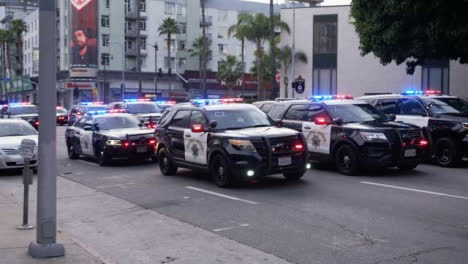Car: (155, 97, 312, 186), (273, 94, 431, 174), (369, 80, 465, 158), (61, 108, 165, 158)
